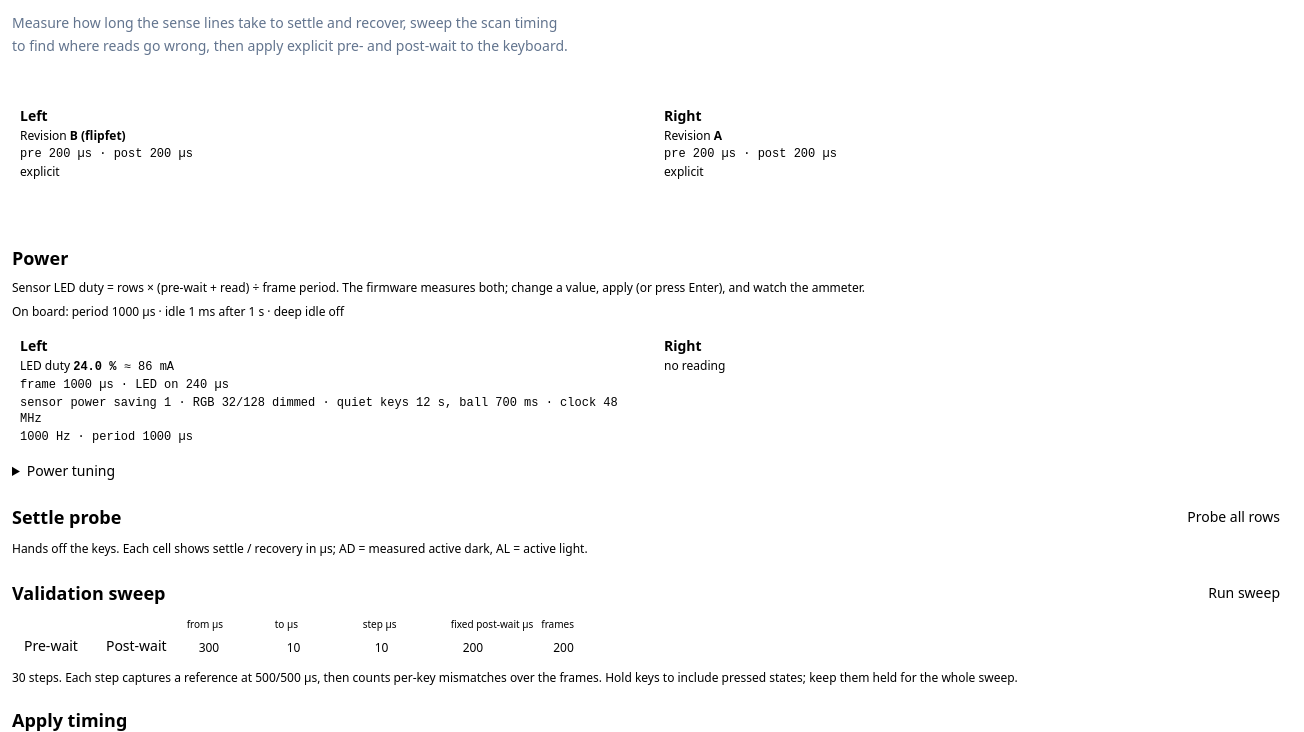
Test: ScanLabPanel › idle presets fill the fields
Click the heading "Power tuning". click: (71,470)
box: top-left (27, 460), bottom-right (115, 480)
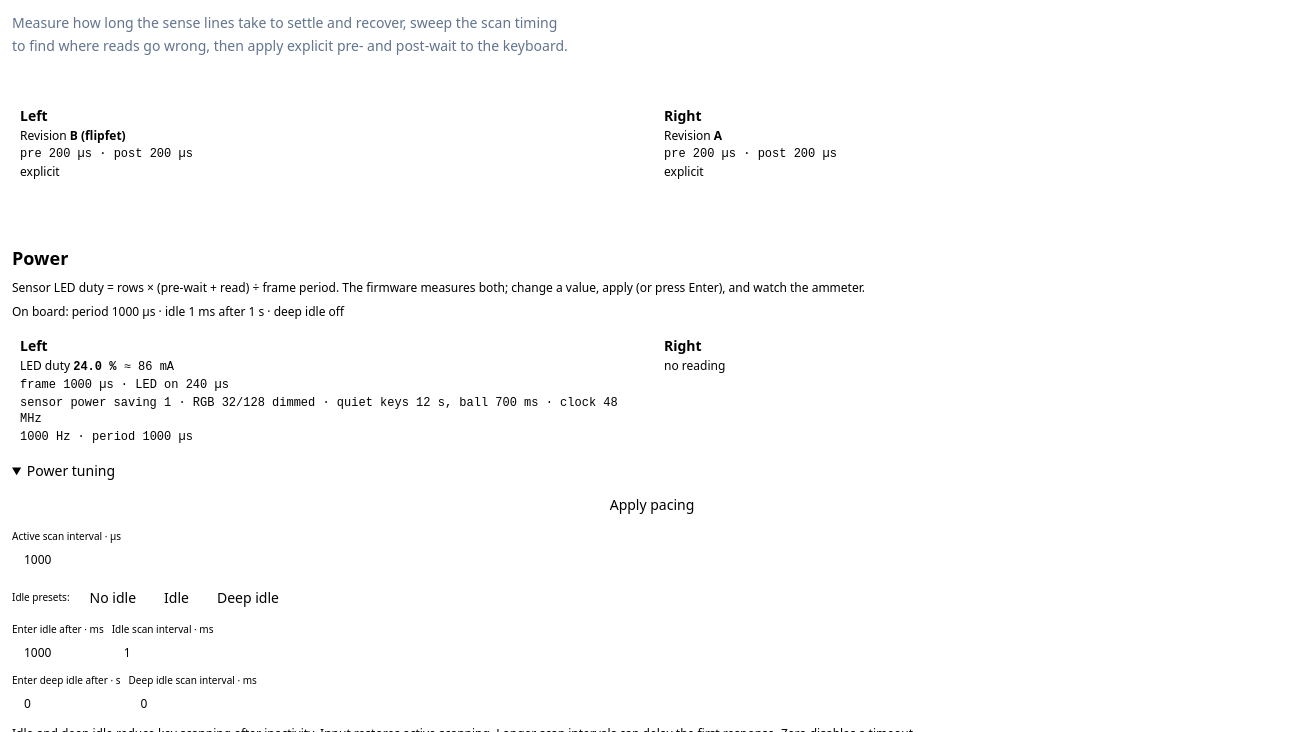
Click the button "Deep idle". click: (248,598)
box: top-left (205, 582), bottom-right (291, 614)
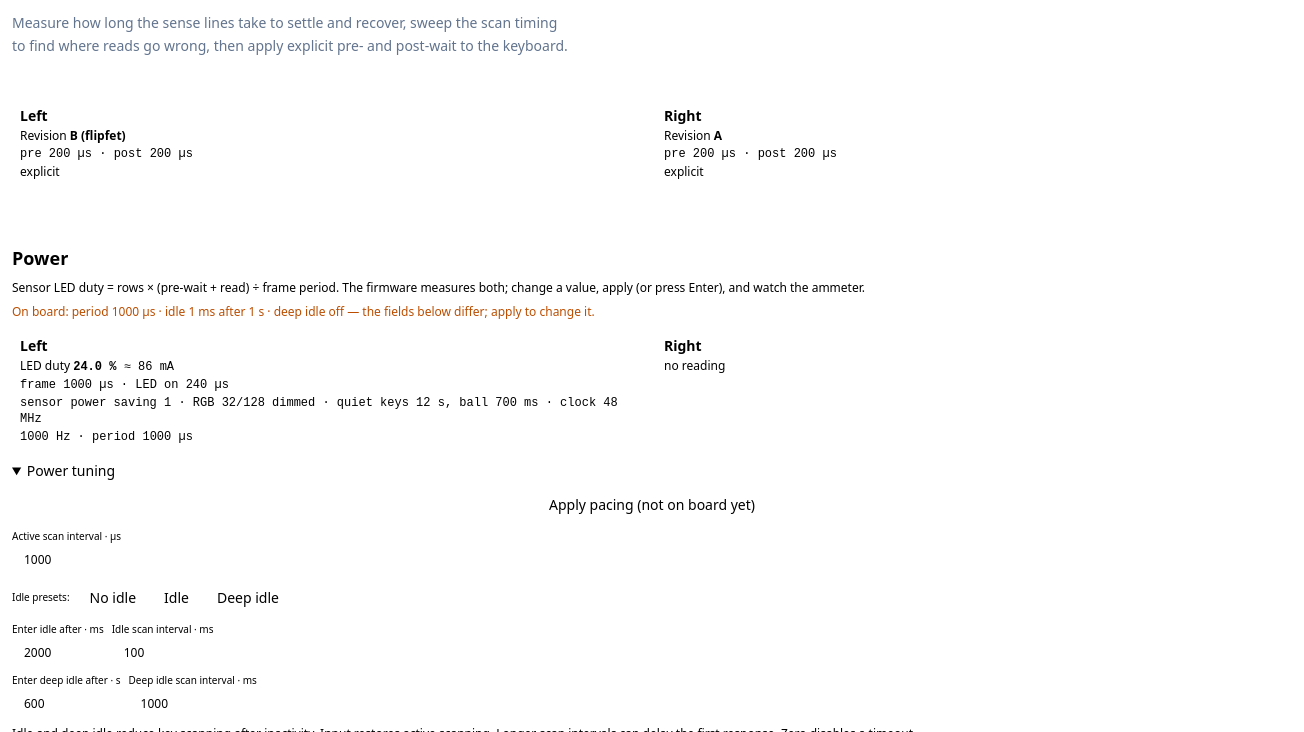
Check: the number field labelled "Idle scan interval · ms" holds "100", box top-left (112, 638), bottom-right (192, 666)
Check: the number field labelled "Enter deep idle after · s" holds "600", box top-left (12, 690), bottom-right (92, 718)
Check: the number field labelled "Deep idle scan interval · ms" holds "1000", box top-left (129, 690), bottom-right (209, 718)
